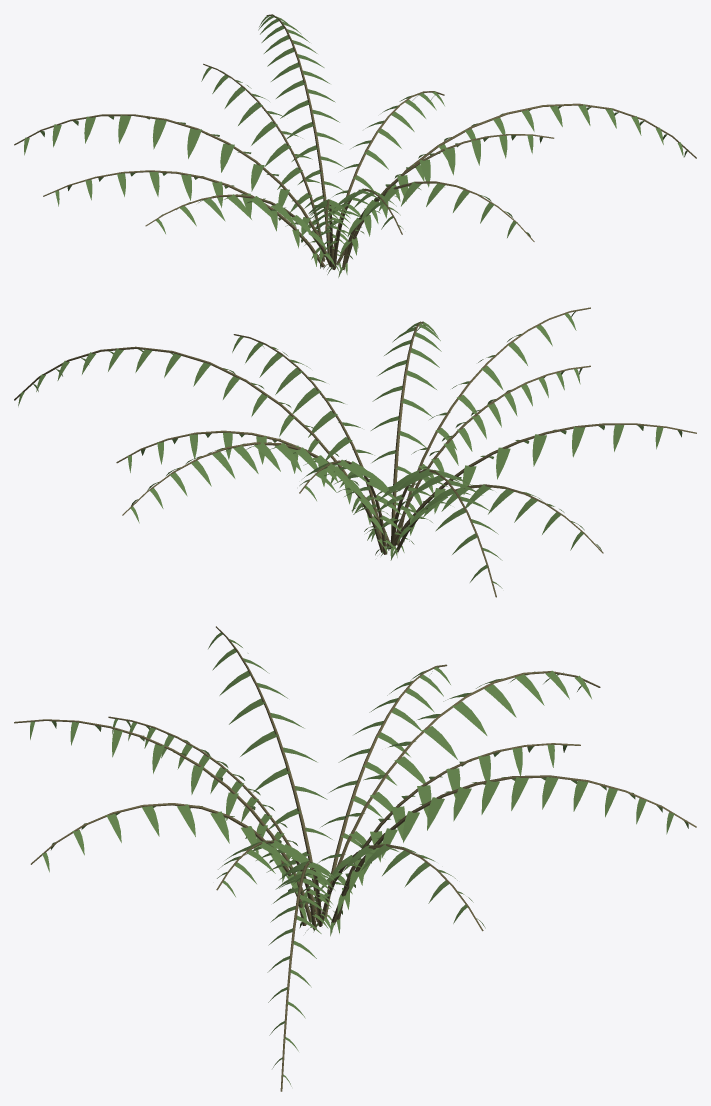
The model's file is fern_4.fbx.
3 views of the same model, one above another, from view 1: azimuth 30°, elevation 25°; view 2: azimuth 150°, elevation 25°; view 3: azimuth 270°, elevation 25° (orthographic). The views are drawn at different scales.
Visible parts, largest first — view 1: fern_4; view 2: fern_4; view 3: fern_4.
Boxes of the visible parts, x1,y1,x2,y2 form: fern_4: (14,14,696,277); fern_4: (14,307,696,597); fern_4: (14,626,696,1091).
Bounding box in the file's own units: 1.58 × 0.3899 × 1.28.
